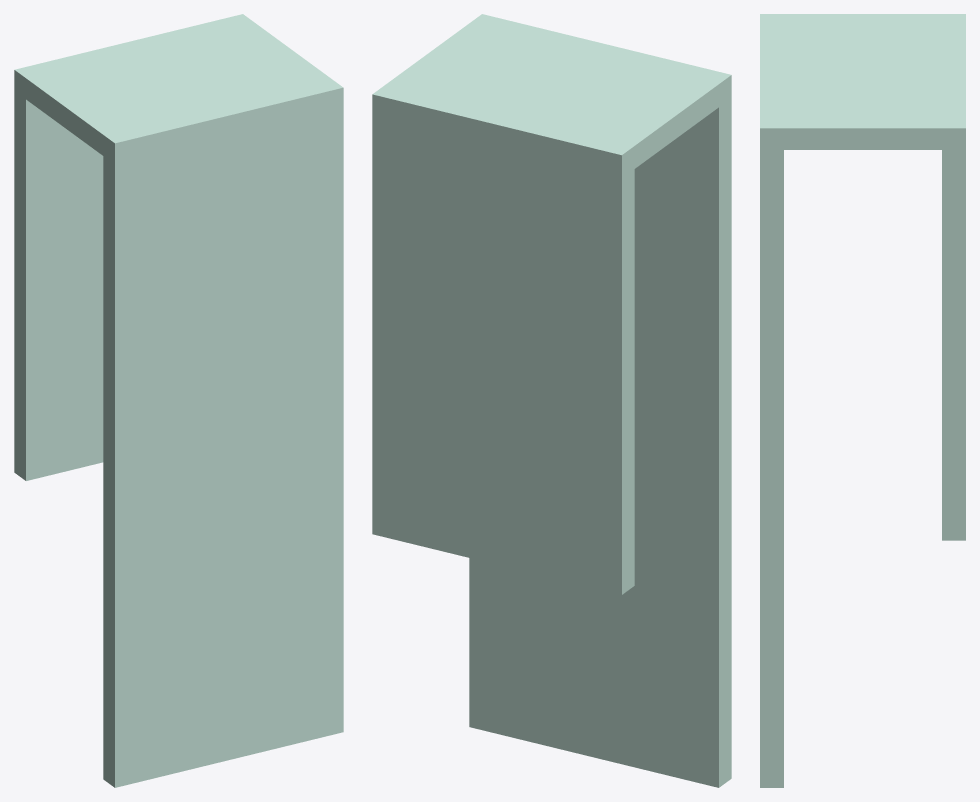
3 views of the same model, side by side, from view 1: azimuth 30°, elevation 25°; view 2: azimuth 150°, elevation 25°; view 3: azimuth 270°, elevation 25° (orthographic). The views are drawn at different scales.
Visible parts, largest first — view 1: Renderer Node; view 2: Renderer Node; view 3: Renderer Node.
Part boxes in pixels (x1,y1,x2,y2): Renderer Node: (14, 14, 343, 787); Renderer Node: (372, 14, 731, 787); Renderer Node: (760, 14, 965, 787).
Size of the model in its own units: 0.4453 by 1.2 by 0.3395.
